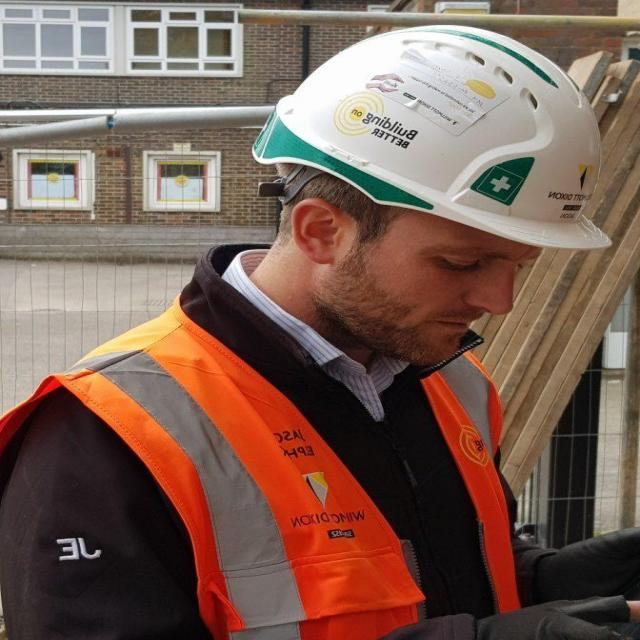reflective_jacket: (20, 291, 537, 639)
safety_helmet: (253, 27, 612, 251)
